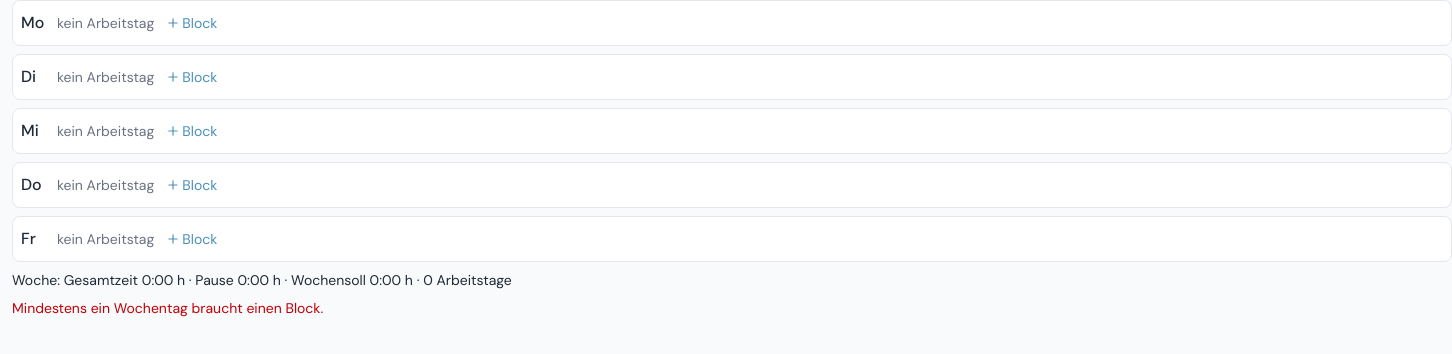
WorkBlocksEditor (Spec 12.1) › leere Woche: kein Arbeitstag, Block anlegen, Fehlertext beim leeren Block
This screenshot has width=1452, height=354.
Check: the text "kein Arbeitstag" is shown 5 times, box [57,13,154,33]; [57,67,154,87]; [57,121,154,141]; [57,175,154,195]; [57,229,154,249]
Click the button with aria-label "Mo: Block hinzufügen".
click(192, 23)  # box [162,9,221,37]
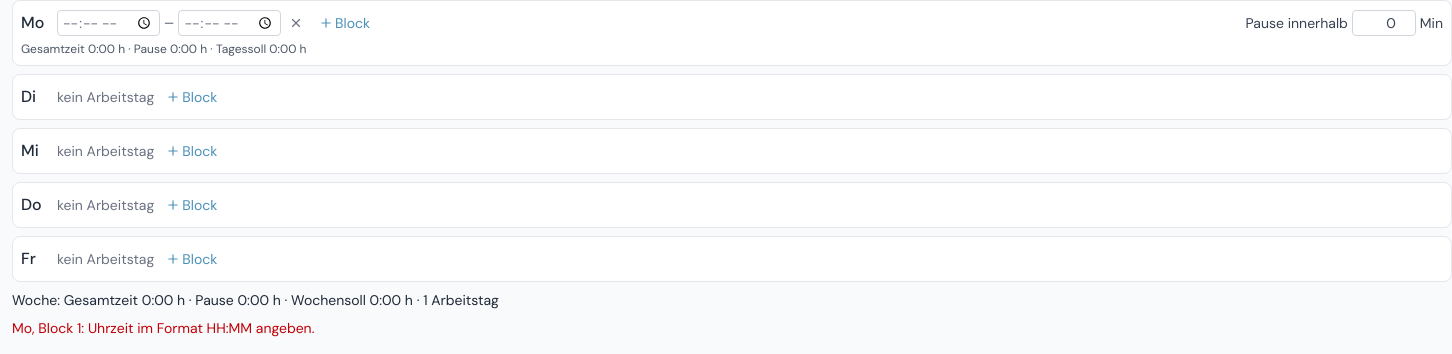
Check: the time field named "Mo Block 1 von" is shown, box [57,10,160,36]
Check: the message reads "Mo, Block 1: Uhrzeit im Format HH:MM angeben.", box [12,319,314,337]
